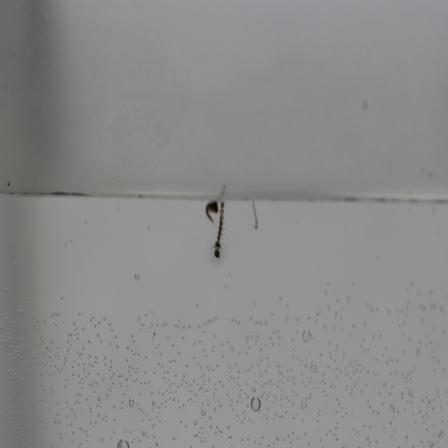Jentik-Nyamuk: (202, 193, 228, 261), (248, 197, 263, 235)
